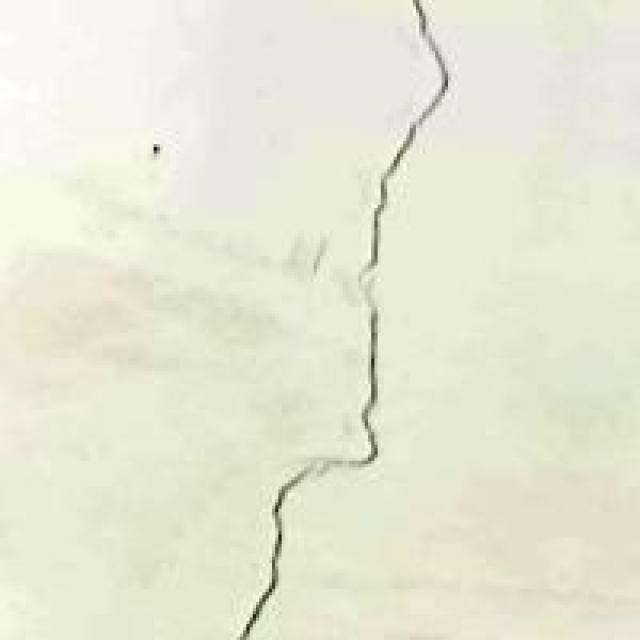Crack: (218, 0, 461, 637)
